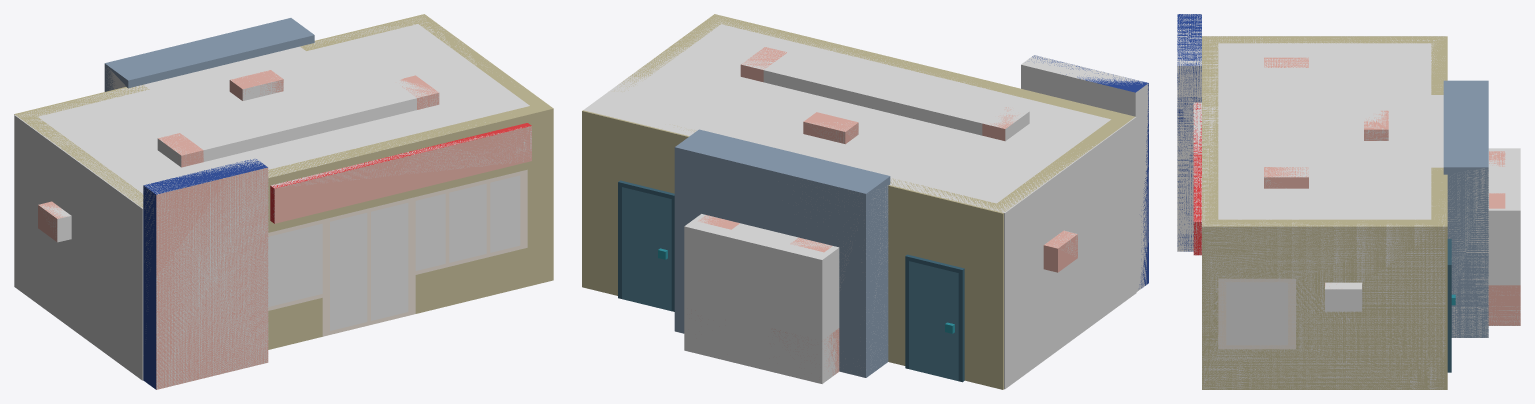
File: Home15_B1_2_01.FBX
The picture shows the model from 3 angles, left to right: view 1: azimuth 30°, elevation 25°; view 2: azimuth 150°, elevation 25°; view 3: azimuth 270°, elevation 25°; orthographic projection. The views are drawn at different scales.
Visible parts, largest first — view 1: Home15_B1_Damage_1_001, Home15_B1_Live_1_001; view 2: Home15_B1_Damage_1_001, Home15_B1_Live_1_001; view 3: Home15_B1_Damage_1_001, Home15_B1_Live_1_001.
Part boxes in pixels (x1=…): Home15_B1_Damage_1_001: x1=14, y1=16, x2=531, y2=389; Home15_B1_Live_1_001: x1=14, y1=14, x2=553, y2=389; Home15_B1_Damage_1_001: x1=583, y1=15, x2=1148, y2=389; Home15_B1_Live_1_001: x1=582, y1=14, x2=1148, y2=389; Home15_B1_Damage_1_001: x1=1177, y1=14, x2=1520, y2=389; Home15_B1_Live_1_001: x1=1177, y1=14, x2=1520, y2=389.
Size of the model in its own units: 8.99 by 3.81 by 6.39.
